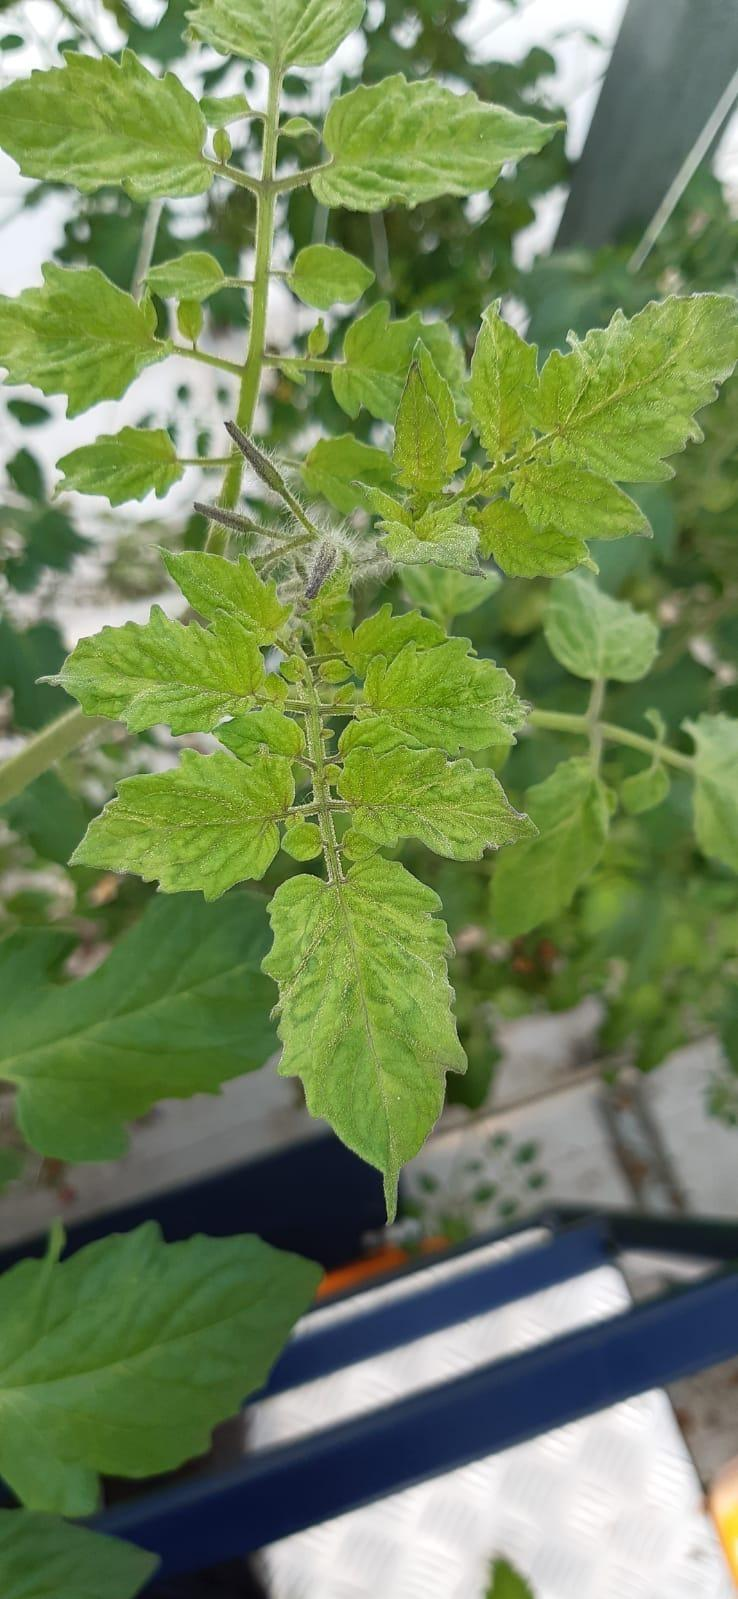Hoja: (0, 1221, 322, 1517), (0, 893, 278, 1162)
Hoja rugoso: (260, 855, 465, 1202), (531, 292, 737, 479), (308, 71, 557, 209), (69, 750, 292, 899), (53, 609, 265, 734), (335, 746, 533, 860), (362, 637, 525, 752), (162, 552, 291, 643), (509, 462, 649, 540), (469, 303, 537, 462), (472, 500, 593, 578), (393, 359, 450, 494), (381, 506, 481, 575), (215, 706, 303, 762), (281, 821, 322, 862)
Pedunculo rugoso: (300, 676, 344, 884)
